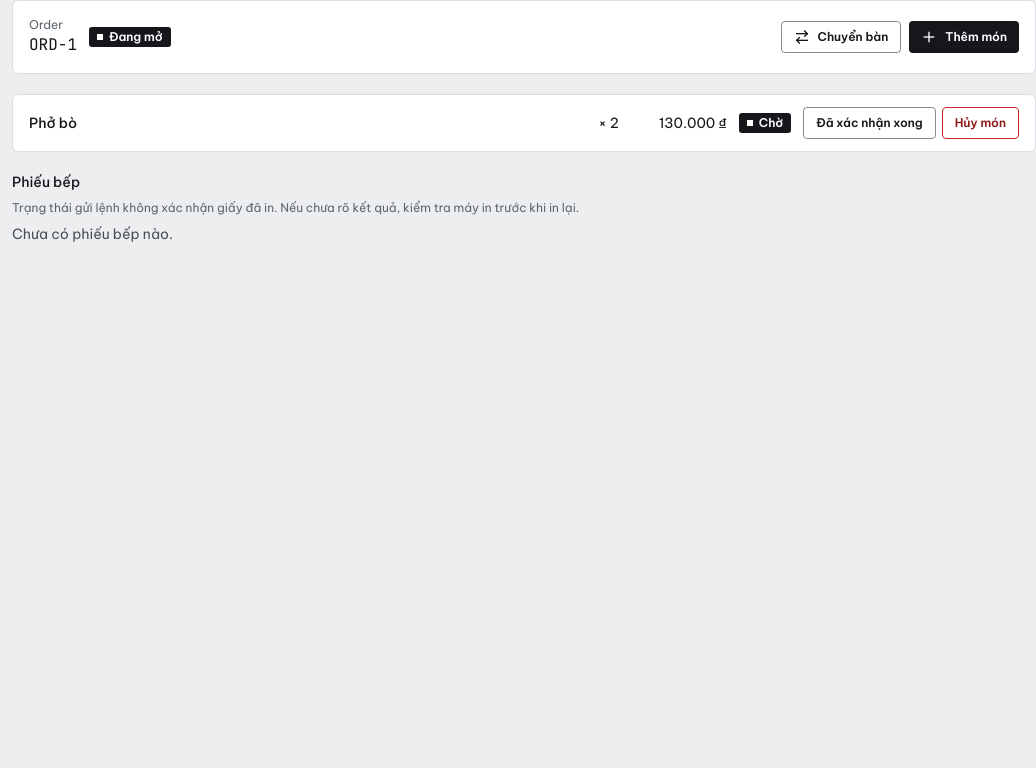
Scenario: OrderDetail › sends an idempotency key when quantity becomes a new add-on line
Click the button "× 2". click: coordinates (609, 123)
box: 598,113 -> 619,133
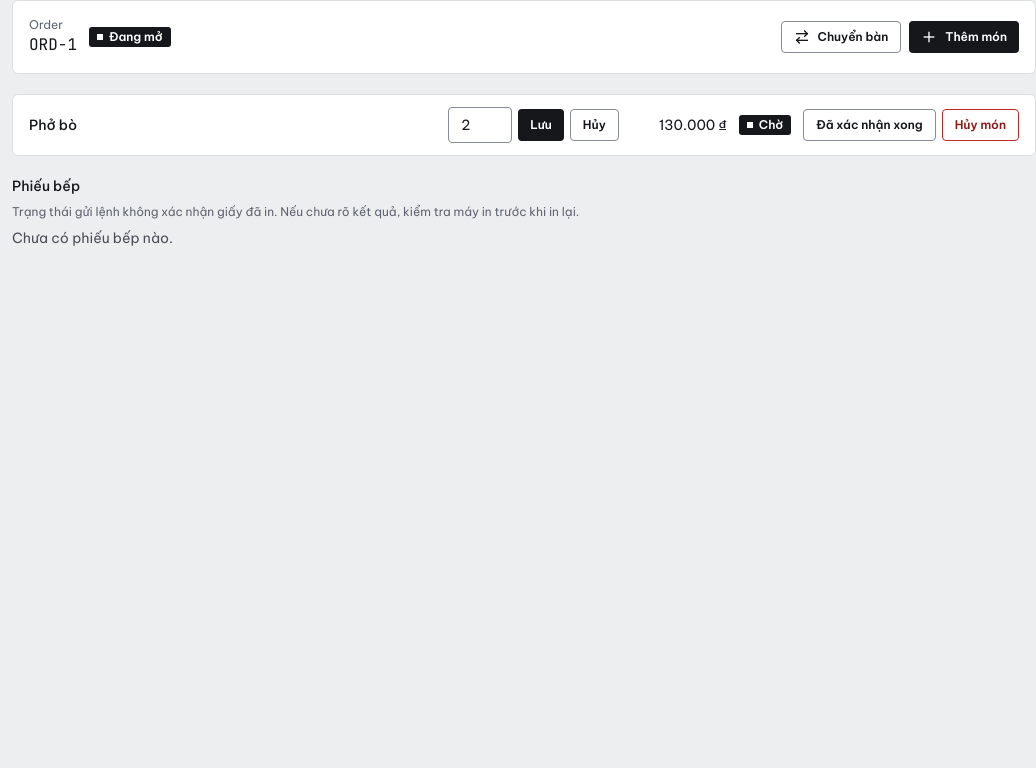
Replace the text in the number field named "Số lượng Phở bò" with "4". click: coordinates (480, 125)
box: 448,107 -> 512,143
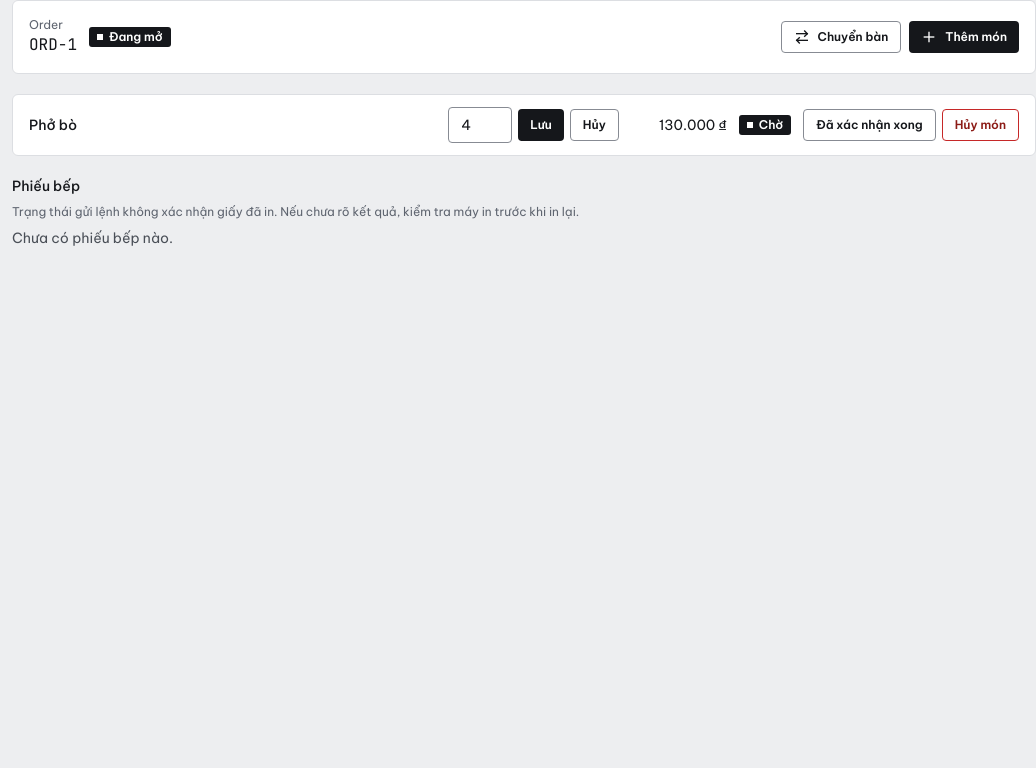
Click the button "Lưu". click: coordinates (541, 125)
box: 518,109 -> 564,141
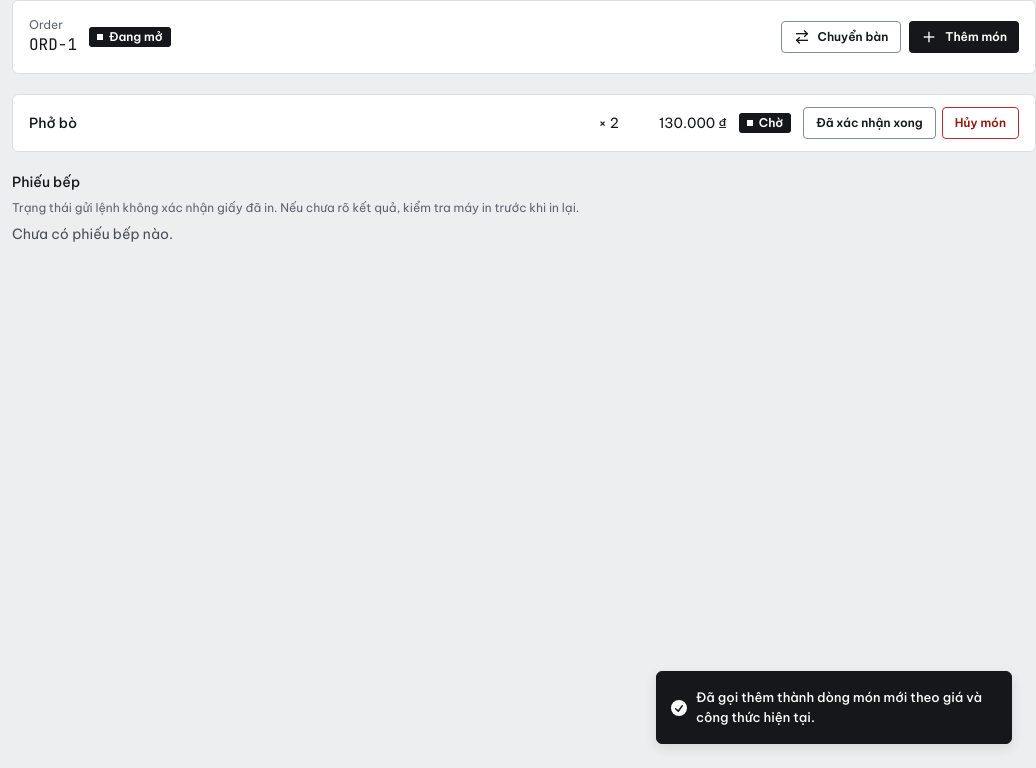
Now the text "Đã gọi thêm thành dòng món mới" is shown, box 696,689 -> 982,724
